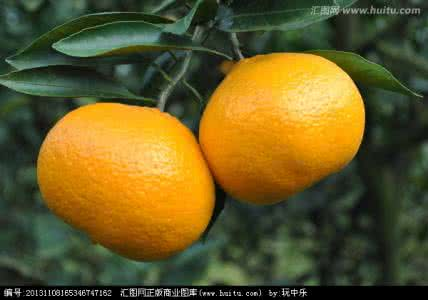orange: (28, 92, 225, 250), (197, 44, 371, 203)
